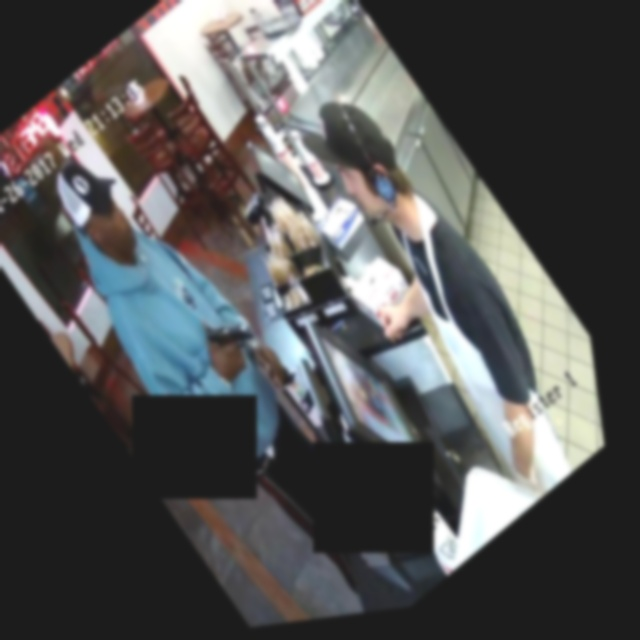gun: (177, 283, 275, 388)
